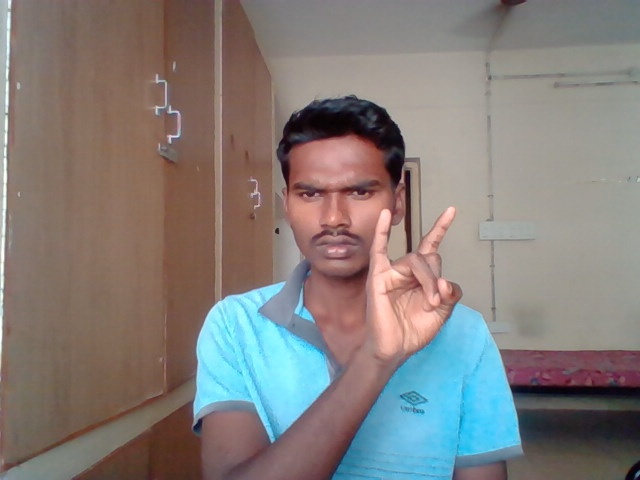I Love You: (362, 203, 465, 369)
